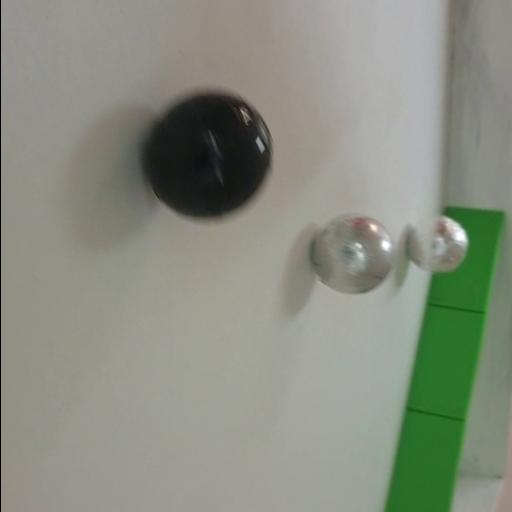alive: (310, 216, 394, 296), (406, 216, 468, 272)
dead: (140, 86, 276, 222)
